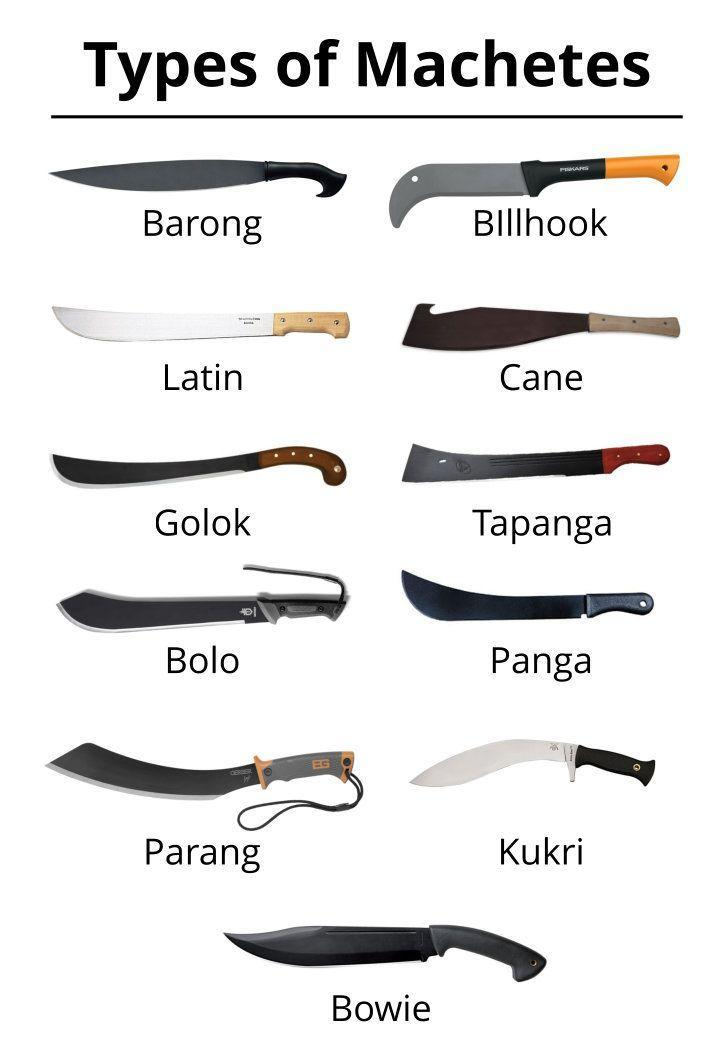facao: (390, 155, 679, 227), (50, 743, 362, 802), (225, 925, 546, 982), (58, 573, 347, 631), (402, 303, 679, 352), (402, 571, 653, 621), (53, 446, 346, 486), (410, 740, 655, 787), (53, 160, 346, 198), (402, 444, 669, 483), (54, 306, 349, 341)
